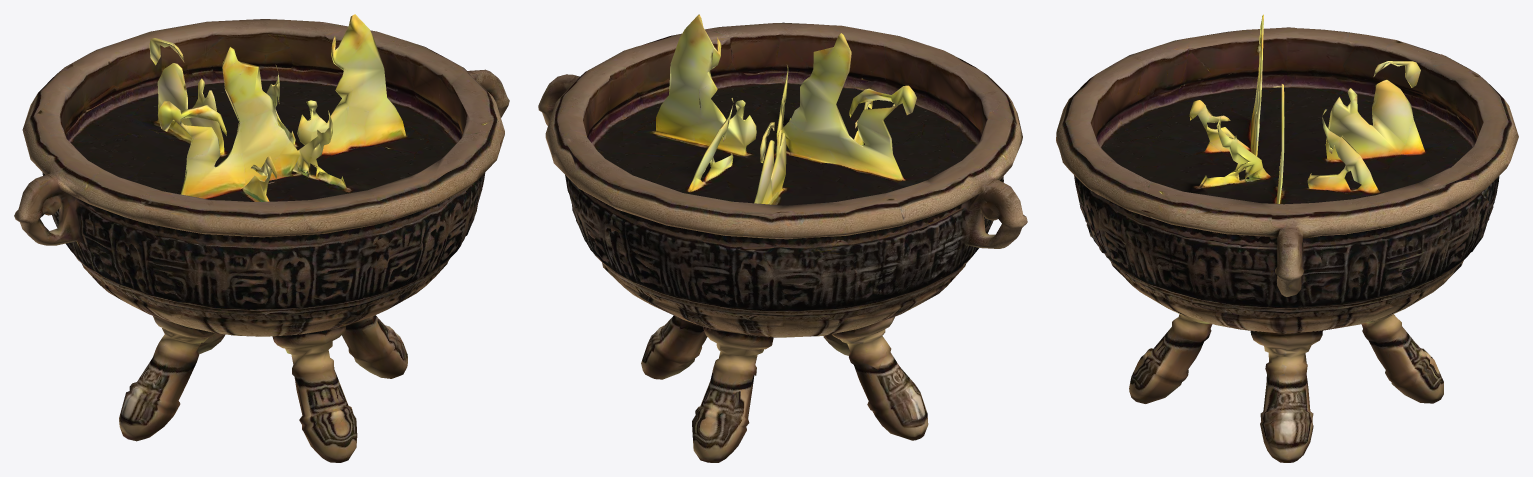
File: brazier.glb
3 views of the same model, side by side, from view 1: azimuth 30°, elevation 25°; view 2: azimuth 150°, elevation 25°; view 3: azimuth 270°, elevation 25° (orthographic). The views are drawn at different scales.
Bounding box in the file's own units: 1.91 × 1.42 × 1.62.
1 material, 1 textured.
